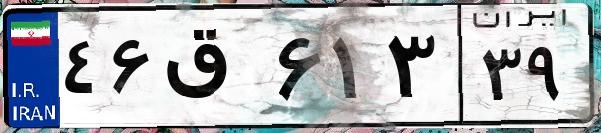1: (330, 28, 385, 110)
3: (385, 28, 445, 110), (475, 38, 525, 113)
4: (57, 26, 110, 100)
6: (270, 28, 330, 110), (110, 28, 158, 98)
9: (525, 38, 570, 115)
ق: (158, 20, 270, 120)
